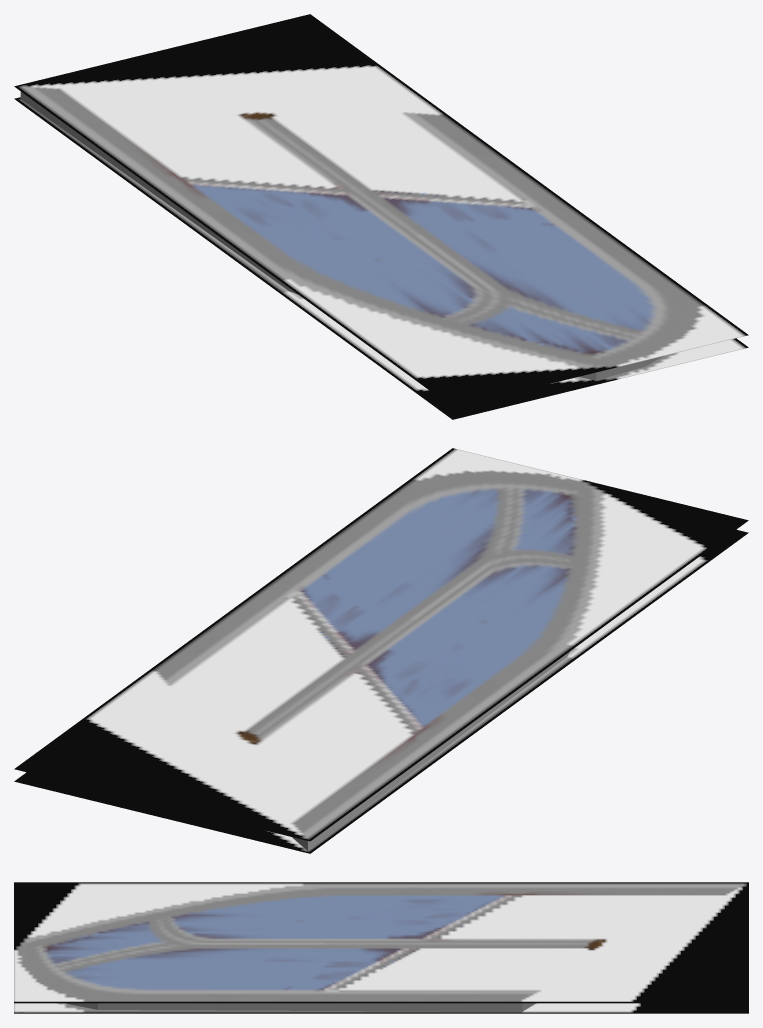
The model's file is pz_native_location_community_church_small_01_256_frame.obj.
3 views of the same model, one above another, from view 1: azimuth 30°, elevation 25°; view 2: azimuth 150°, elevation 25°; view 3: azimuth 270°, elevation 25° (orthographic). The views are drawn at different scales.
Parts seen in each view (by area): view 1: pz_native_location_community_church_small_01_256_frame; view 2: pz_native_location_community_church_small_01_256_frame; view 3: pz_native_location_community_church_small_01_256_frame.
Boxes of the visible parts, bbox=[...] form: pz_native_location_community_church_small_01_256_frame: bbox=[14, 14, 748, 419]; pz_native_location_community_church_small_01_256_frame: bbox=[14, 448, 748, 853]; pz_native_location_community_church_small_01_256_frame: bbox=[14, 882, 748, 1013].
Bounding box in the file's own units: 1 × 0.04 × 2.56.
Materials: 1 (1 with a texture image).
